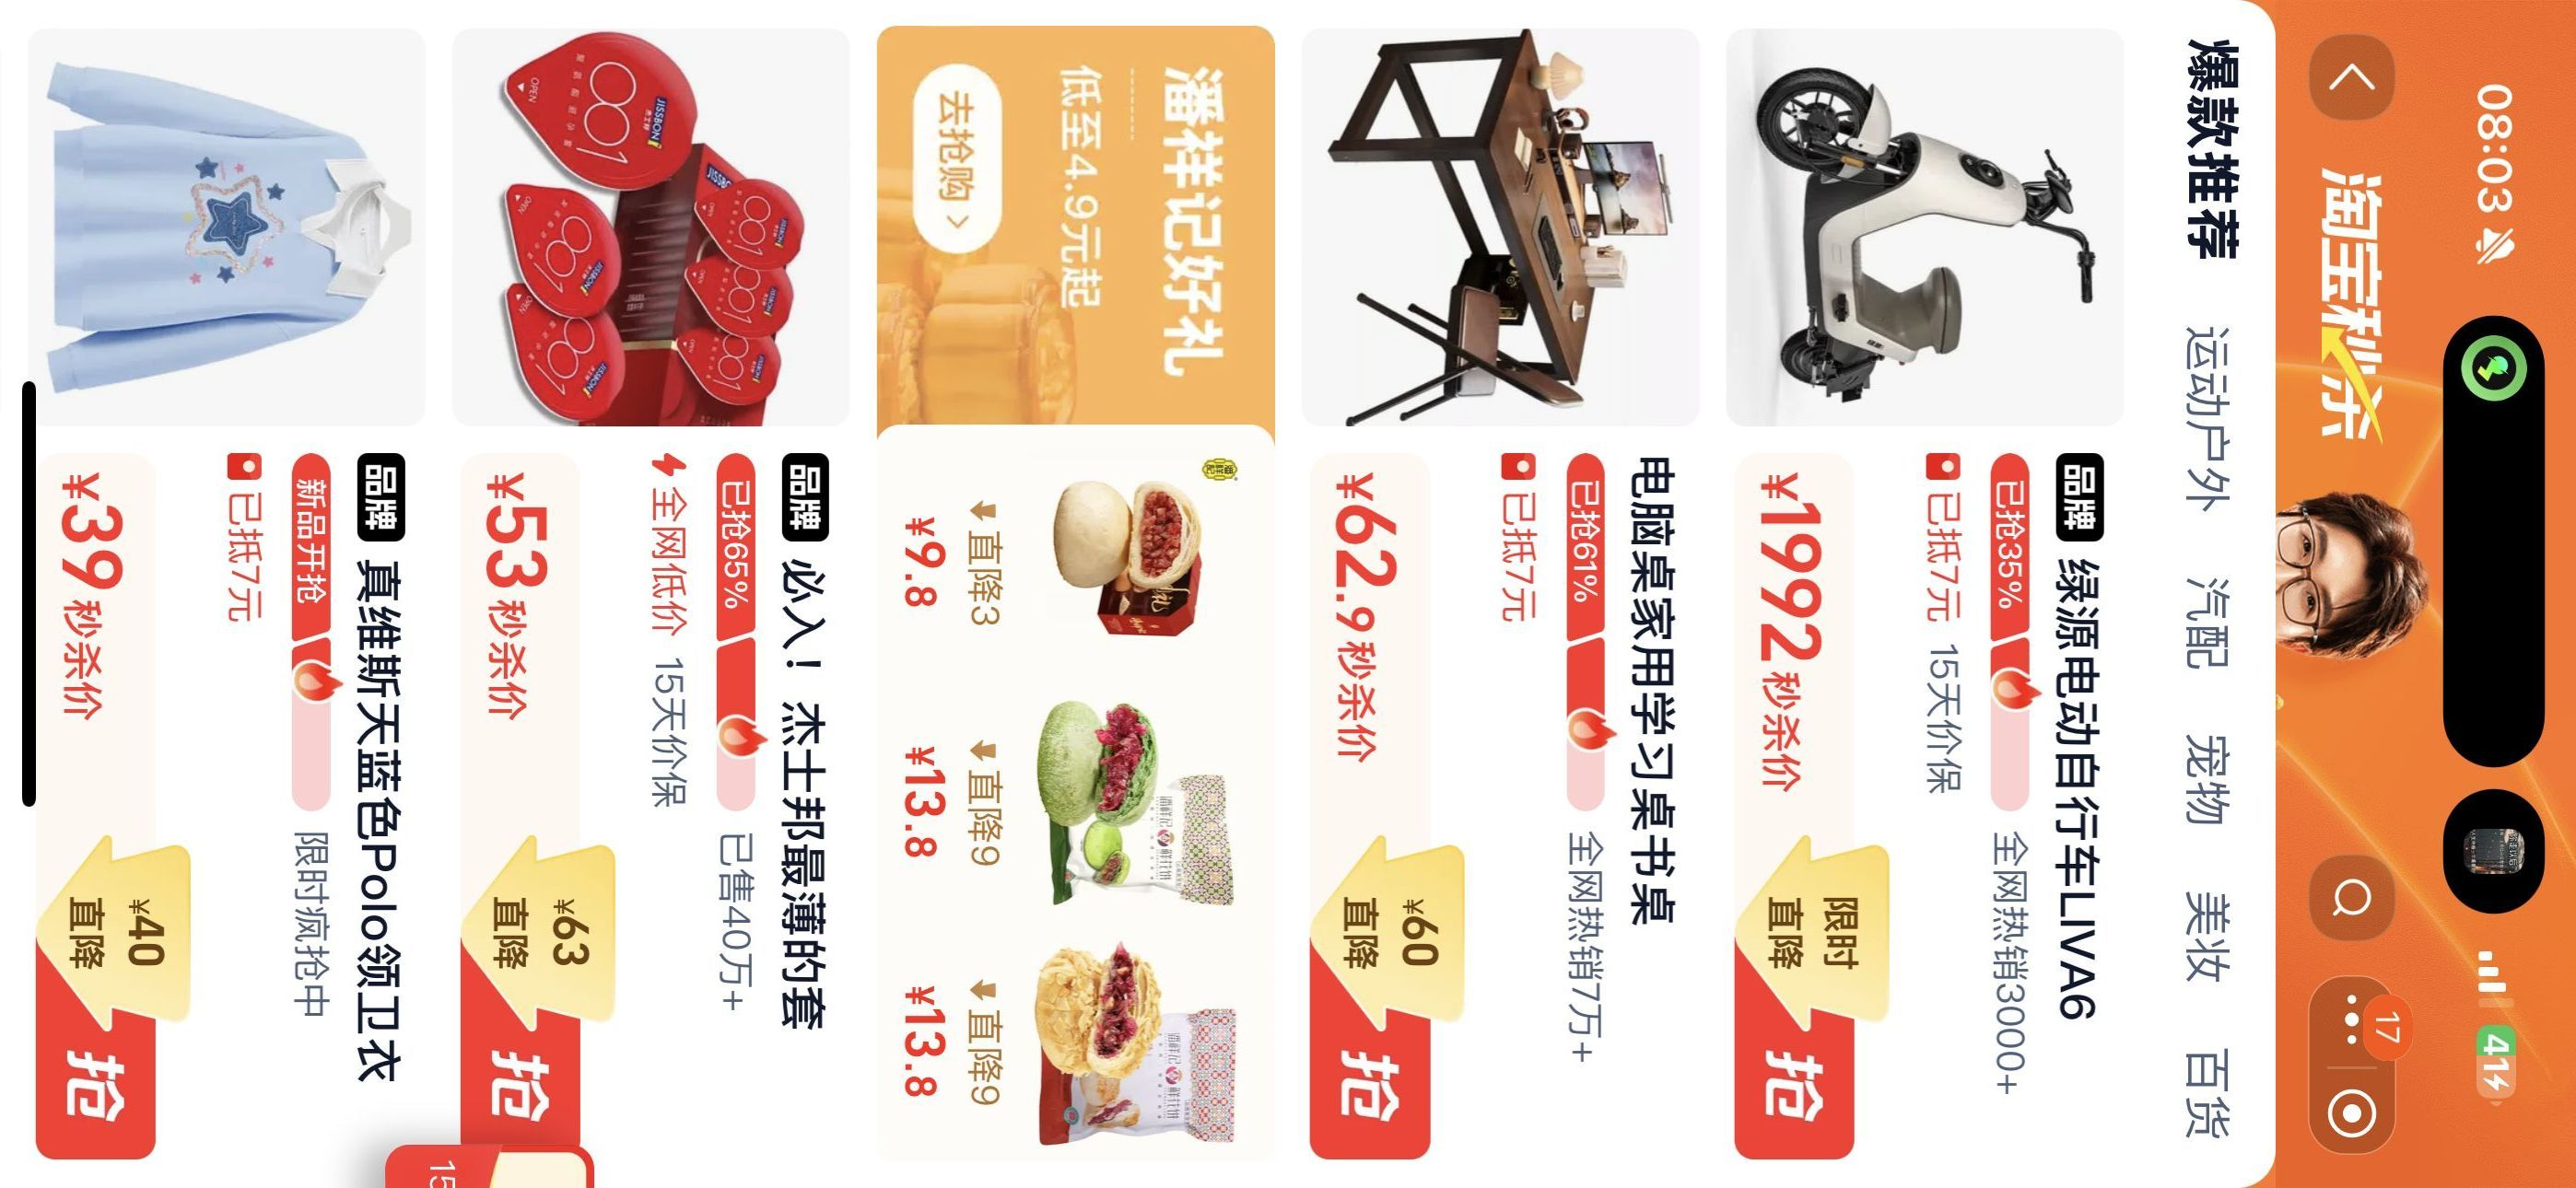banner: (884, 5, 1286, 1185)
item: (10, 15, 458, 1181), (440, 15, 872, 1188), (1722, 15, 2149, 1186), (1286, 10, 1710, 1186)
op_bar: (2285, 5, 2431, 1186)
